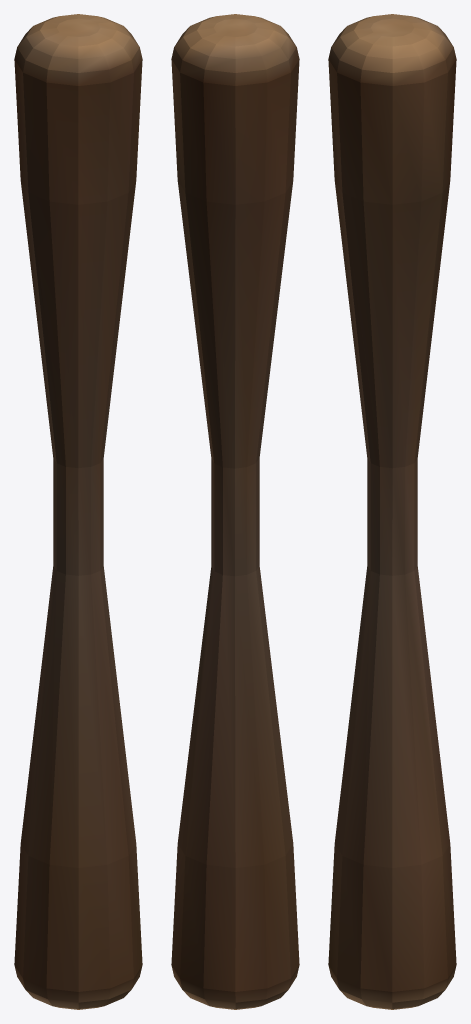
File: pestle_e5b92f46.glb
3 views of the same model, side by side, from view 1: azimuth 90°, elevation 25°; view 2: azimuth 150°, elevation 25°; view 3: azimuth 270°, elevation 25° (orthographic).
Visible parts, largest first — view 1: SM_Pestle_M_Pestle_0; view 2: SM_Pestle_M_Pestle_0; view 3: SM_Pestle_M_Pestle_0.
Part boxes in pixels (bbox=[...]): SM_Pestle_M_Pestle_0: bbox=[14, 14, 142, 1009]; SM_Pestle_M_Pestle_0: bbox=[171, 14, 299, 1009]; SM_Pestle_M_Pestle_0: bbox=[328, 14, 456, 1009].
Bounding box in the file's own units: 0.12 × 1 × 0.12.
